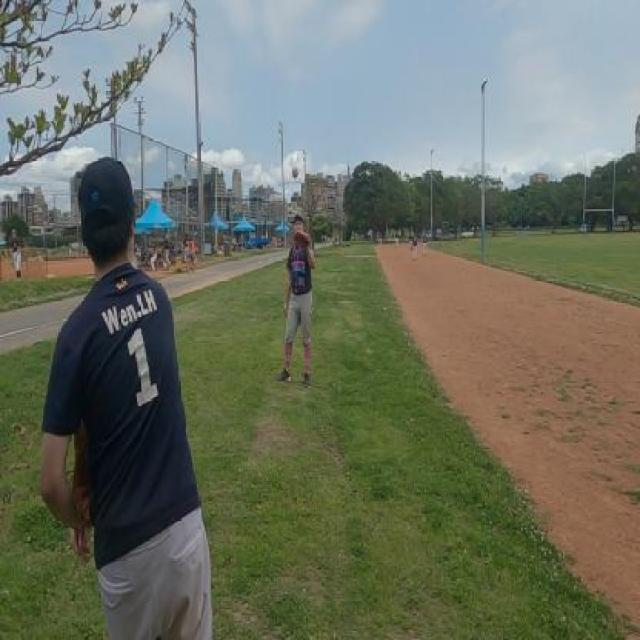baseball: (292, 166, 299, 179)
